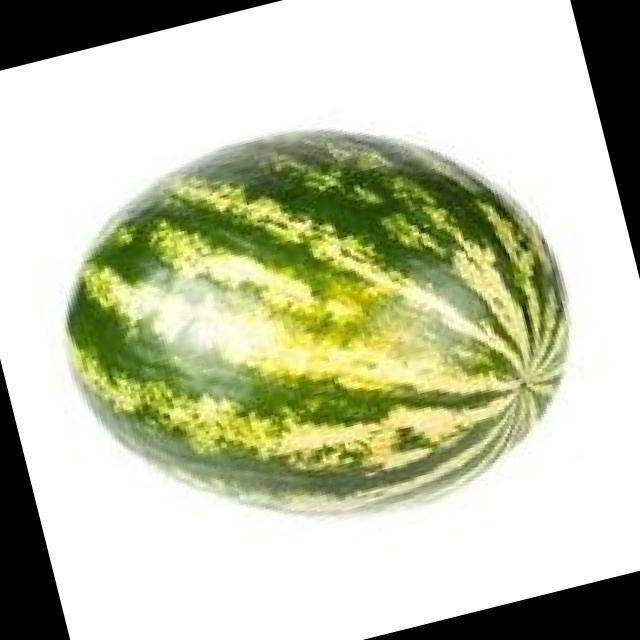watermelon: (67, 130, 568, 513)
